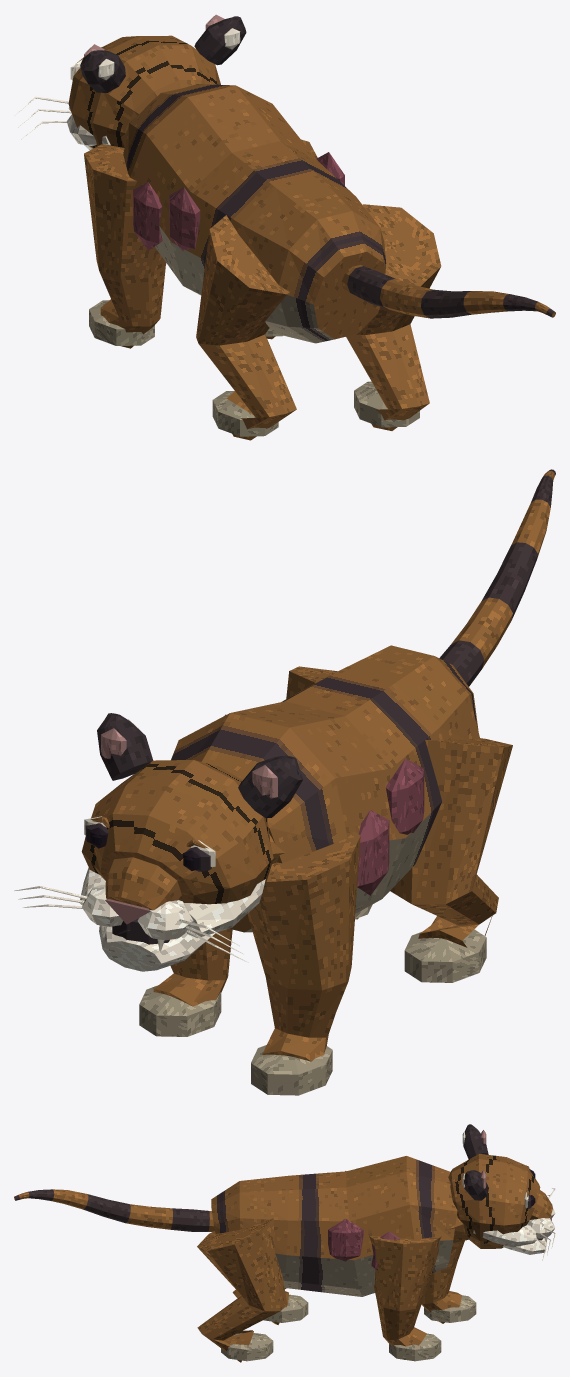
Rendered from mon_ziger.glb.
The picture shows the model from 3 angles, top to bottom: view 1: azimuth 30°, elevation 25°; view 2: azimuth 150°, elevation 25°; view 3: azimuth 270°, elevation 25°; orthographic projection. The views are drawn at different scales.
Parts seen in each view (by area): view 1: closed_body; view 2: closed_body; view 3: closed_body.
Part boxes in pixels (box(x1,y1,x2,y2)): closed_body: box(14, 14, 555, 440); closed_body: box(14, 469, 555, 1095); closed_body: box(14, 1124, 555, 1362).
Bounding box in the file's own units: 0.6757 × 0.9708 × 2.45.
Materials: 1 (1 with a texture image).
